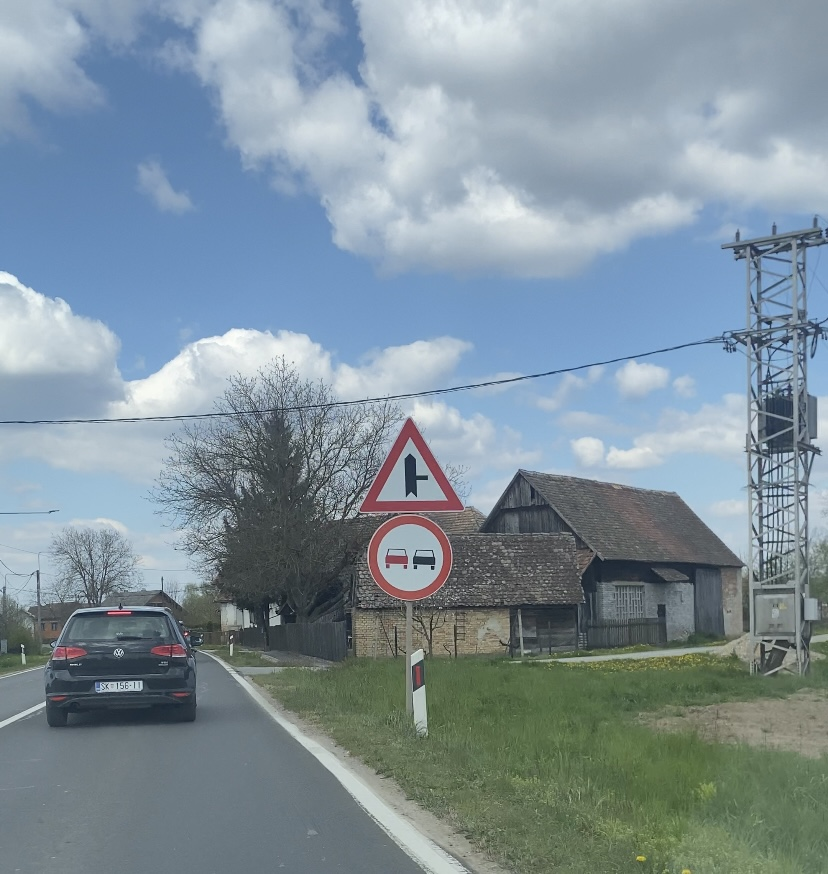Zabrana pretjecanja: (367, 514, 453, 602)
